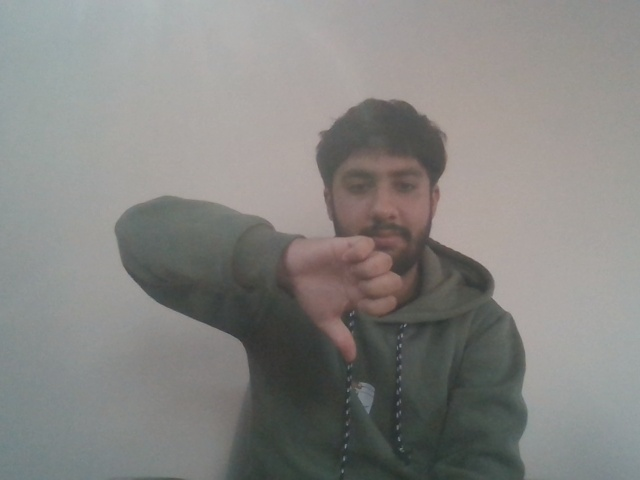No: (287, 227, 408, 367)
